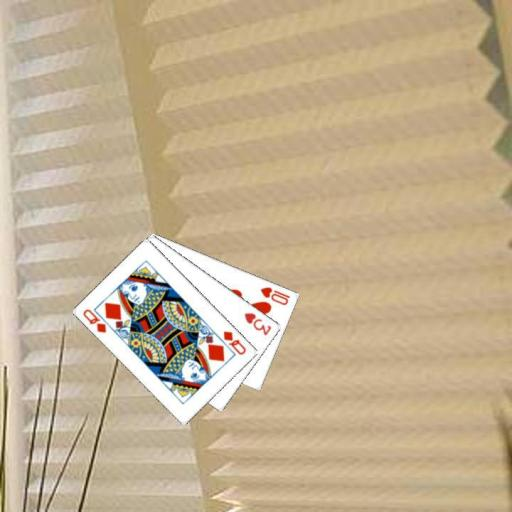10H: (258, 284, 292, 307)
3H: (241, 309, 273, 337)
QD: (80, 306, 108, 334), (221, 328, 248, 356)
